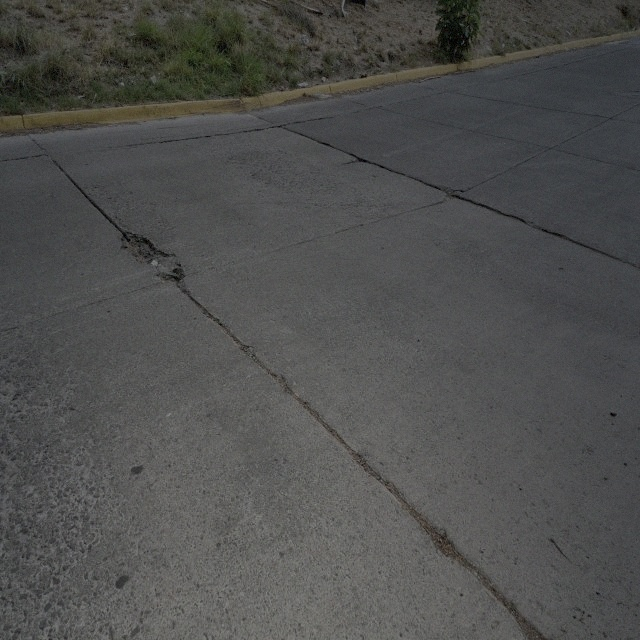pothole: (119, 227, 181, 286)
